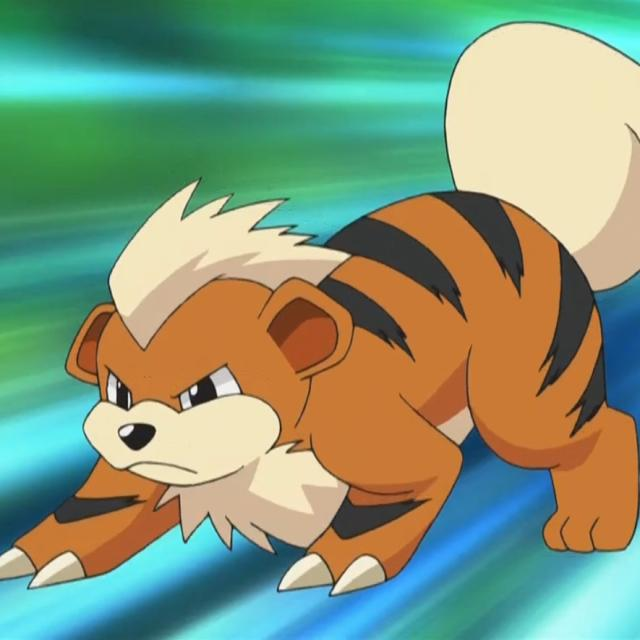Growlithe: (63, 175, 627, 592)
